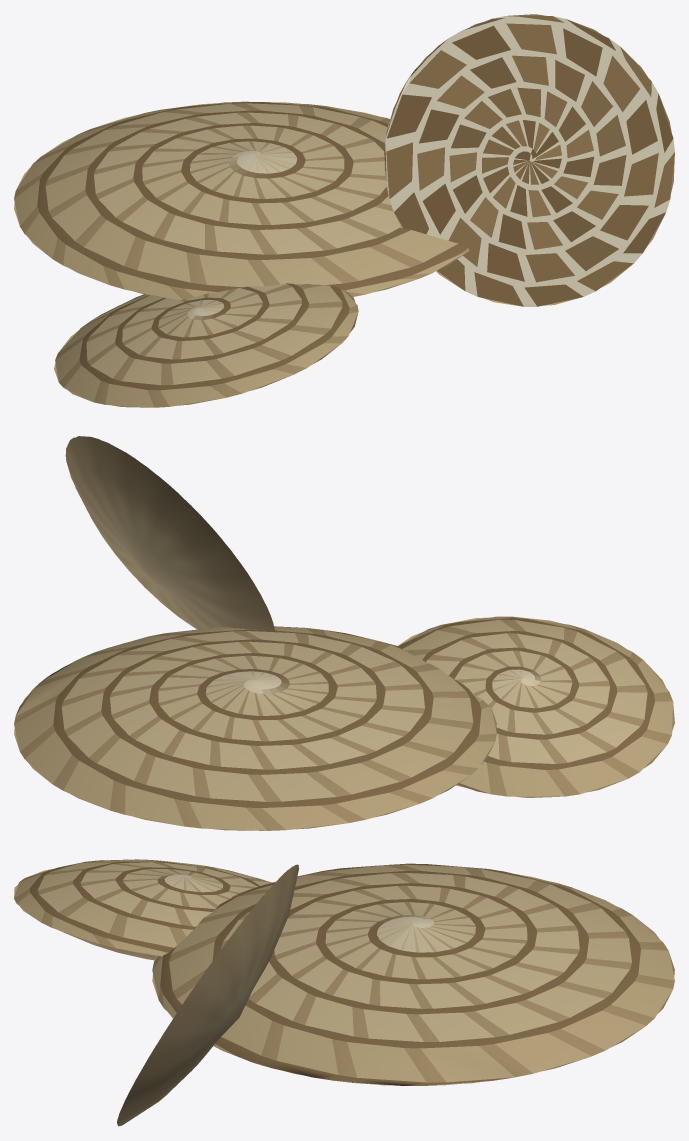
File: Nummulites.fbx
The picture shows the model from 3 angles, top to bottom: view 1: azimuth 30°, elevation 25°; view 2: azimuth 150°, elevation 25°; view 3: azimuth 270°, elevation 25°; orthographic projection. The views are drawn at different scales.
Visible parts, largest first — view 1: Nummulites; view 2: Nummulites; view 3: Nummulites.
Part boxes in pixels (x1,y1,x2,y2): Nummulites: (14, 14, 674, 407); Nummulites: (14, 436, 674, 830); Nummulites: (14, 859, 674, 1126).
Size of the model in its own units: 1.58 by 0.6136 by 1.41.
